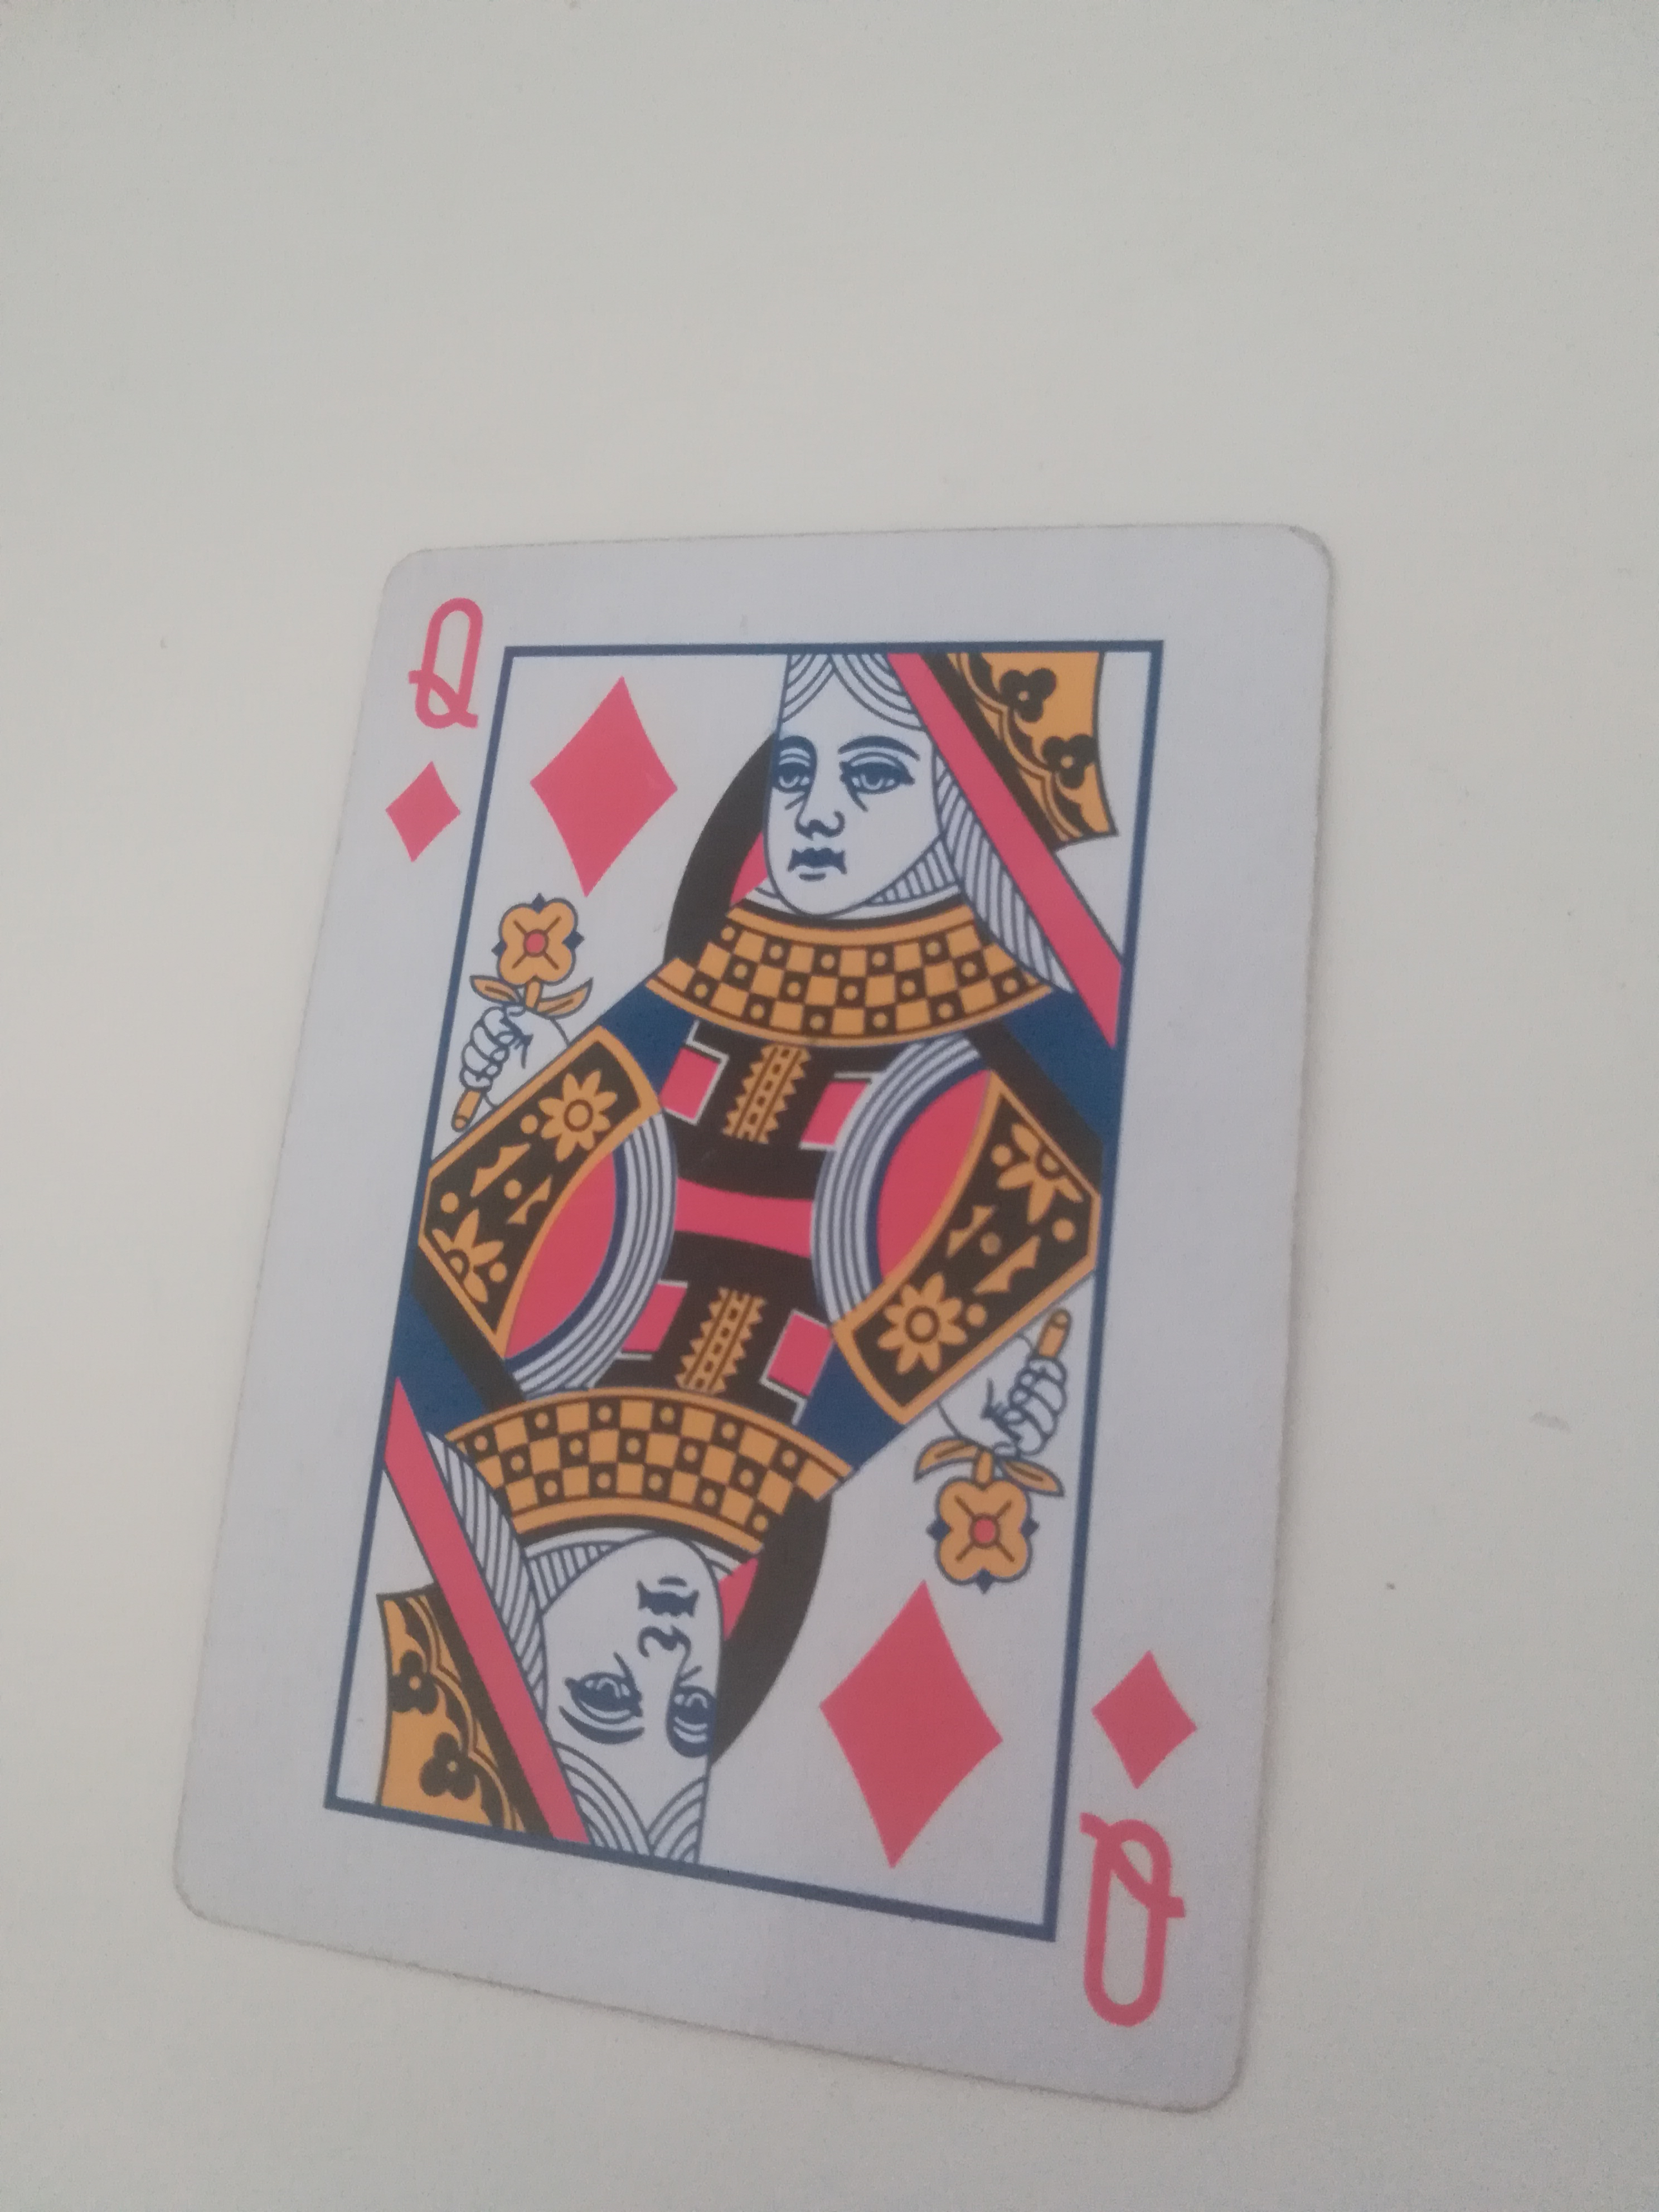QD: (192, 516, 1344, 2113)
